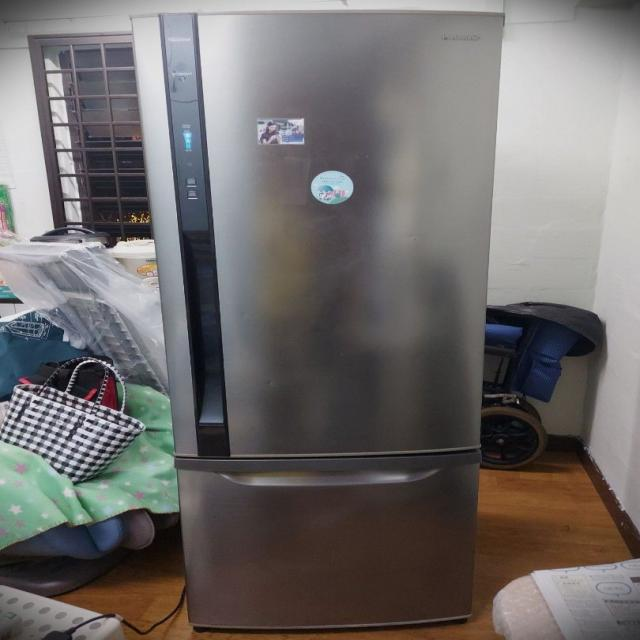refrigerator: (135, 9, 508, 632)
